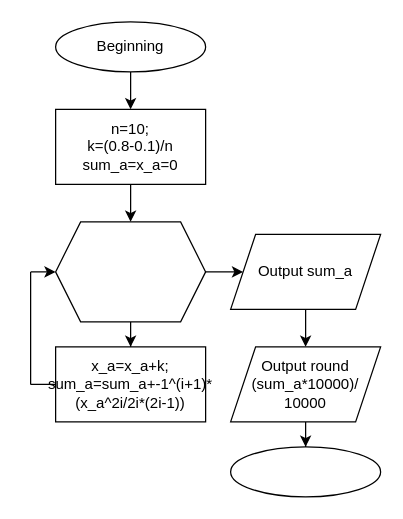
Some shapes in this 403 by 519 pixel diagram are drawn without their labels. Here are the shapes that lost their labels. From the top down, the box of each, then its label:
(54, 221, 206, 322): for(int i=1; i<=n; i++)
(229, 446, 381, 497): End
